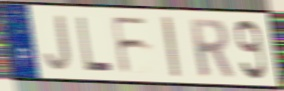9: (235, 19, 267, 81)
F: (110, 15, 150, 76)
I: (160, 14, 182, 79)
J: (43, 14, 73, 73)
L: (75, 15, 114, 74)
R: (187, 16, 236, 79)
